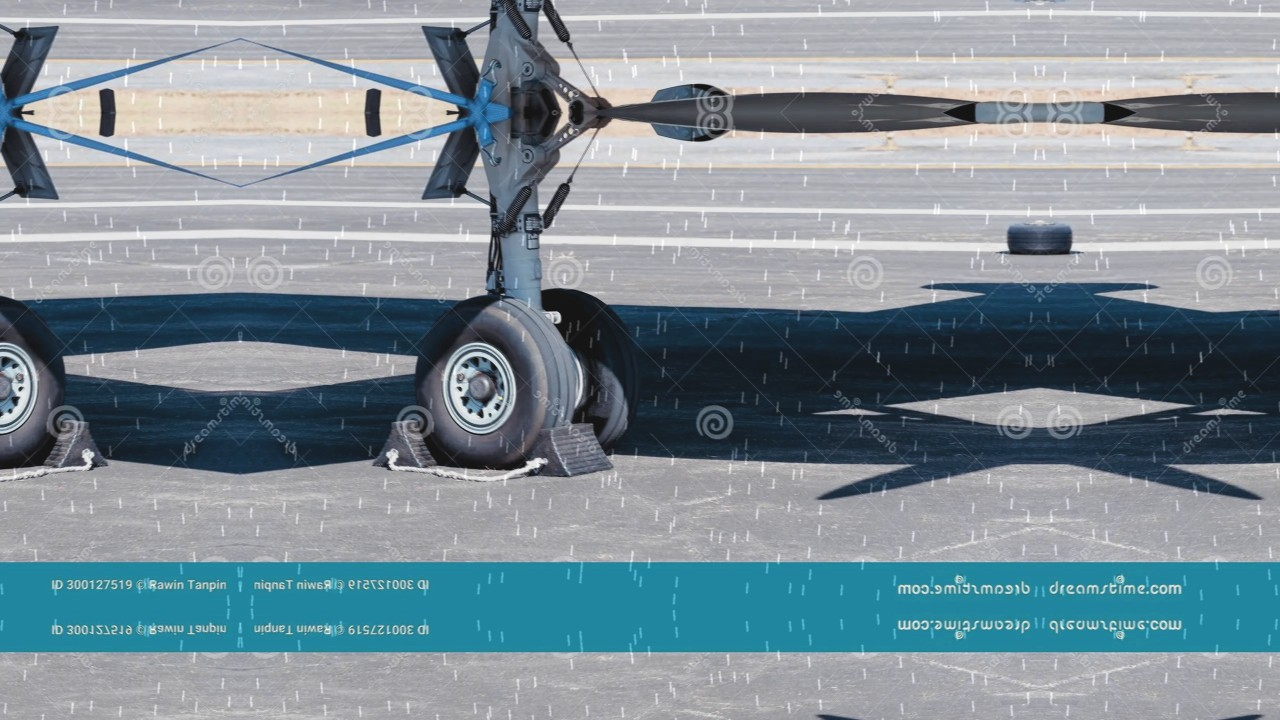chock: (527, 422, 617, 479), (41, 418, 108, 473), (372, 418, 439, 473)
wheel: (416, 295, 578, 468), (537, 287, 642, 456), (0, 295, 64, 468), (1007, 222, 1040, 255), (1040, 222, 1073, 255), (1007, 0, 1040, 4), (1040, 0, 1073, 4)
